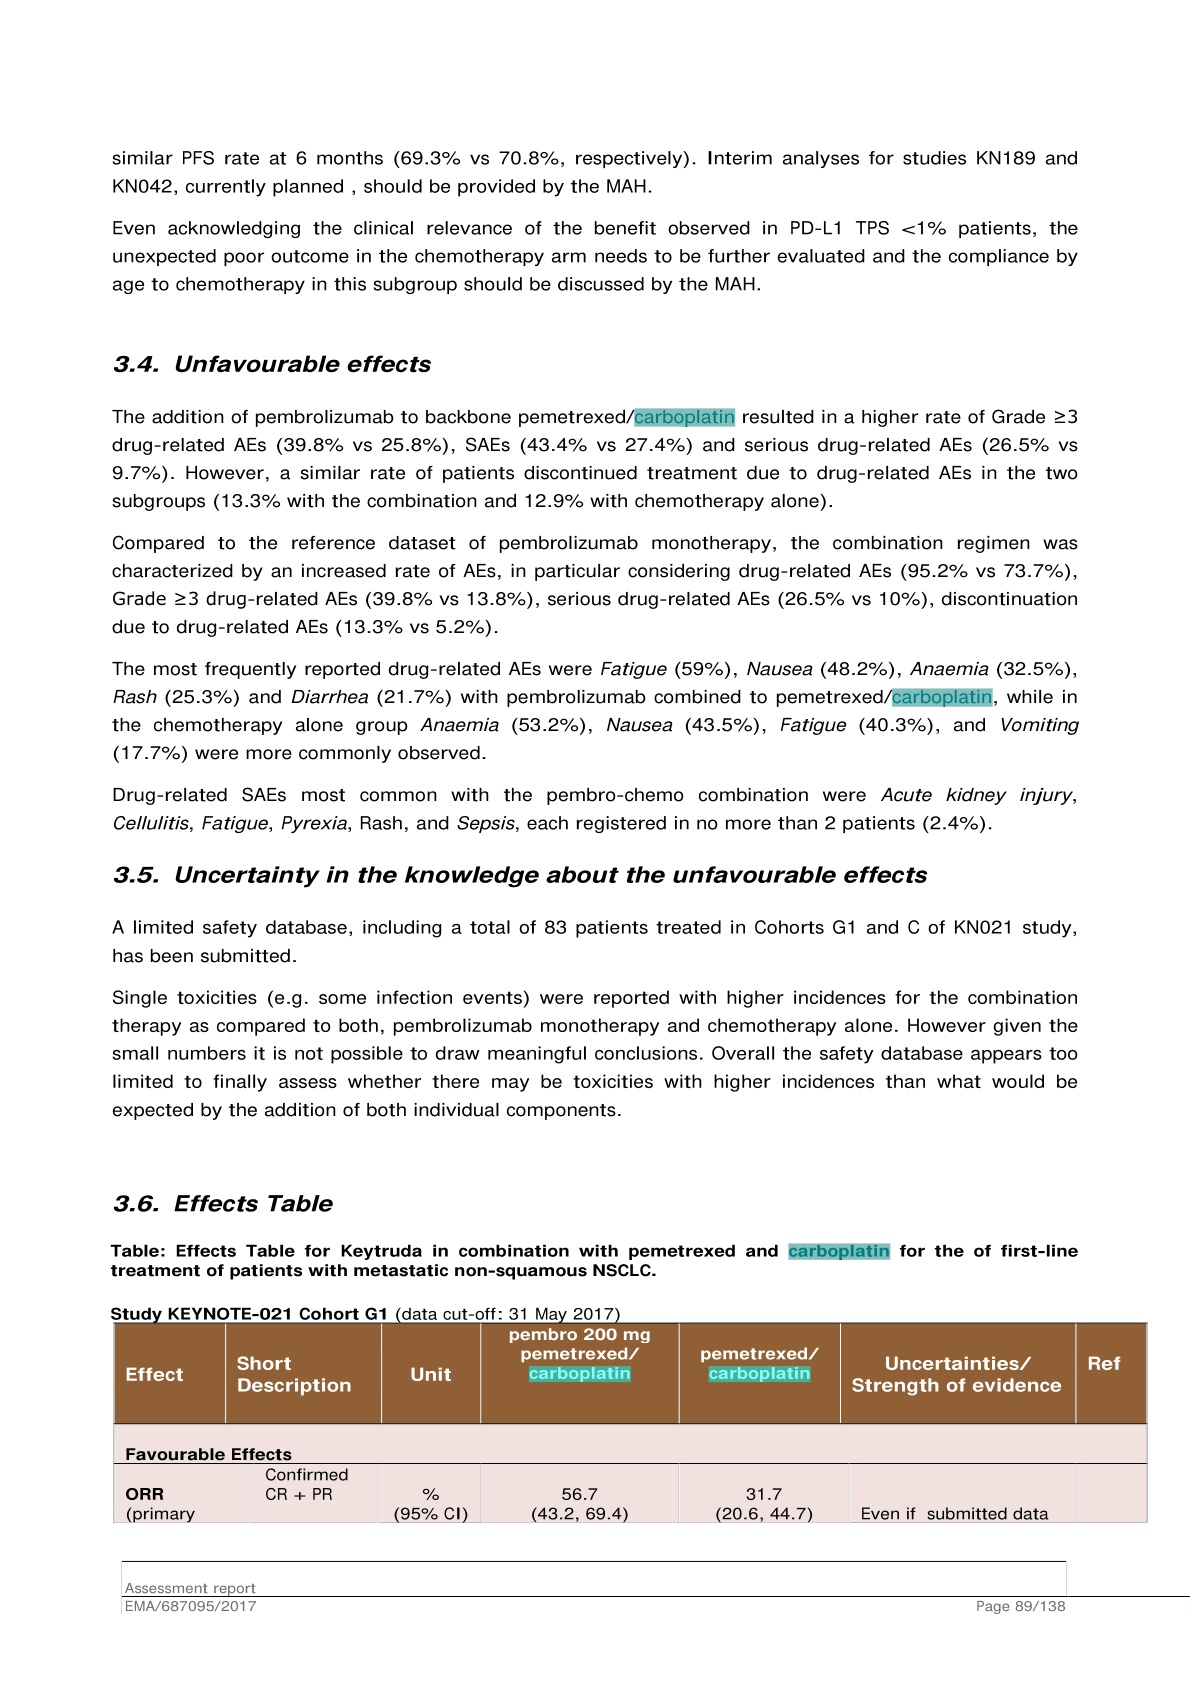merged_cells: (112, 1321, 1149, 1524)
